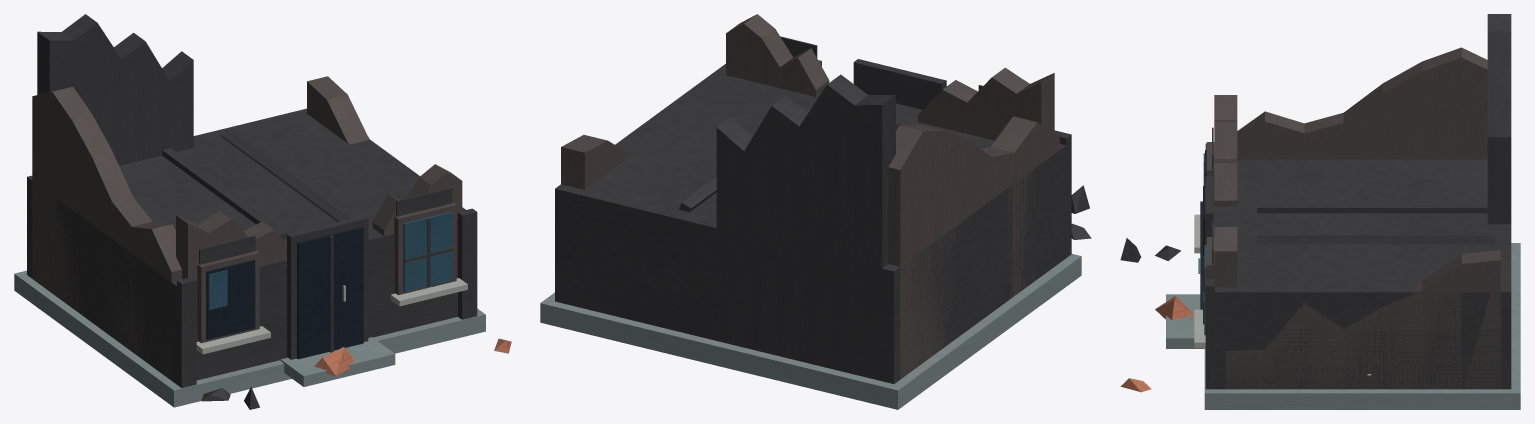
File: row-house-ruined-lod.glb
3 renders of one model, left to right at view 1: azimuth 30°, elevation 25°; view 2: azimuth 150°, elevation 25°; view 3: azimuth 270°, elevation 25°, orthographic. The views are drawn at different scales.
Parts seen in each view (by area): view 1: row-house-ruined-lod; view 2: row-house-ruined-lod; view 3: row-house-ruined-lod.
Part boxes in pixels (<box>): row-house-ruined-lod: <box>14,14,511,409</box>; row-house-ruined-lod: <box>540,14,1091,409</box>; row-house-ruined-lod: <box>1120,14,1520,409</box>.
Bounding box in the file's own units: 5.38 × 4.35 × 6.06.
Materials: 3 (3 with a texture image).
